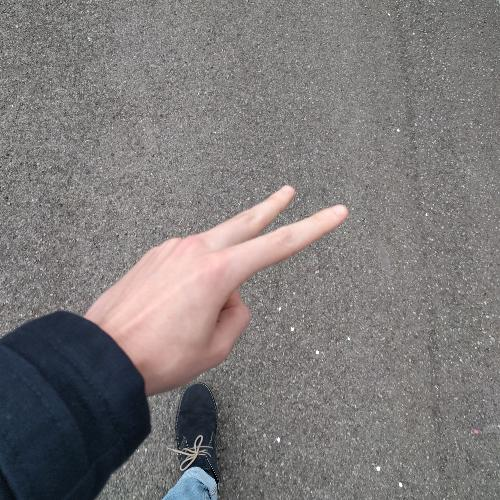scissors: (77, 179, 351, 398)
